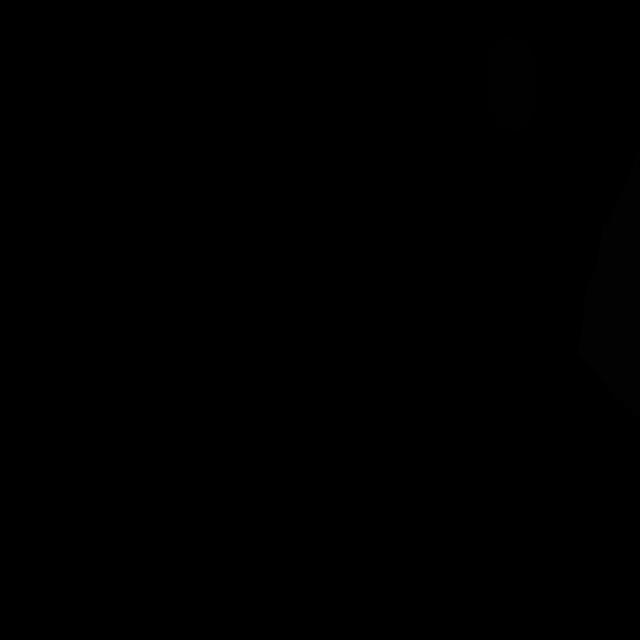cardboard: (578, 148, 640, 420)
rigid_plastic: (485, 36, 539, 132)
